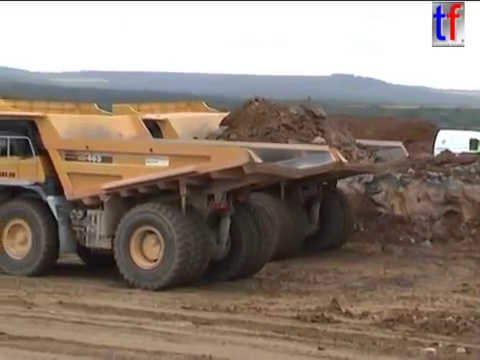truck: (1, 94, 340, 292), (75, 98, 411, 262)
